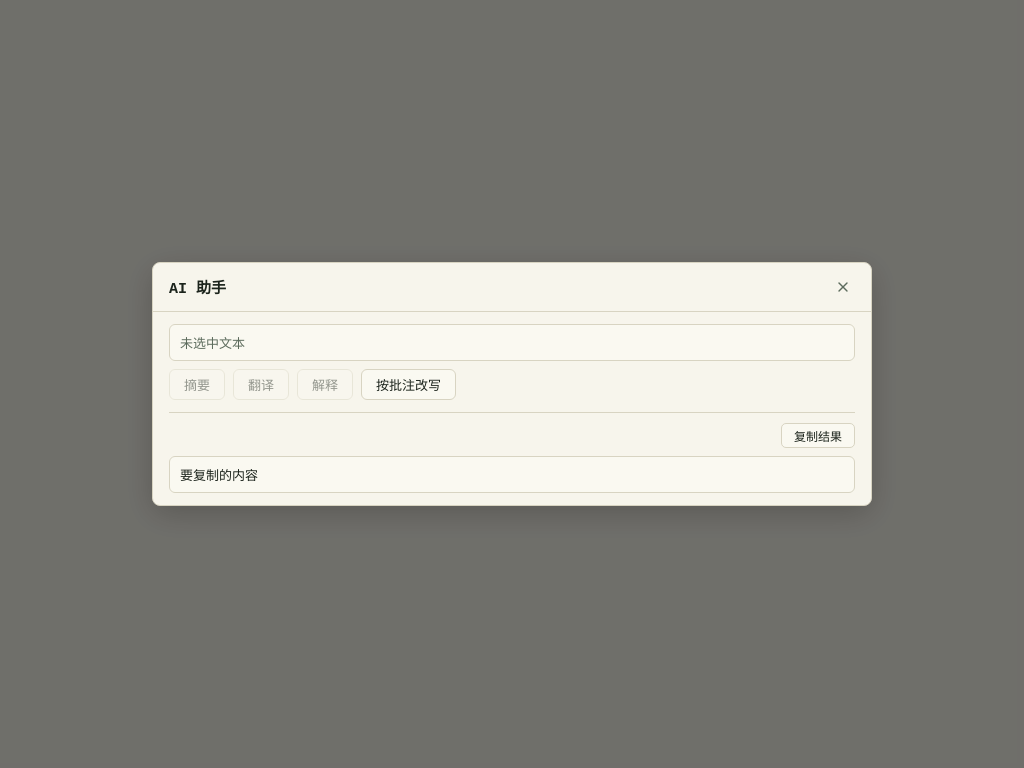
Test case: AiPanel - 结果 › 复制结果成功:按钮文案切换为已复制
The image size is (1024, 768).
Click the button "复制结果" at (818, 436), box [781,423,855,448]
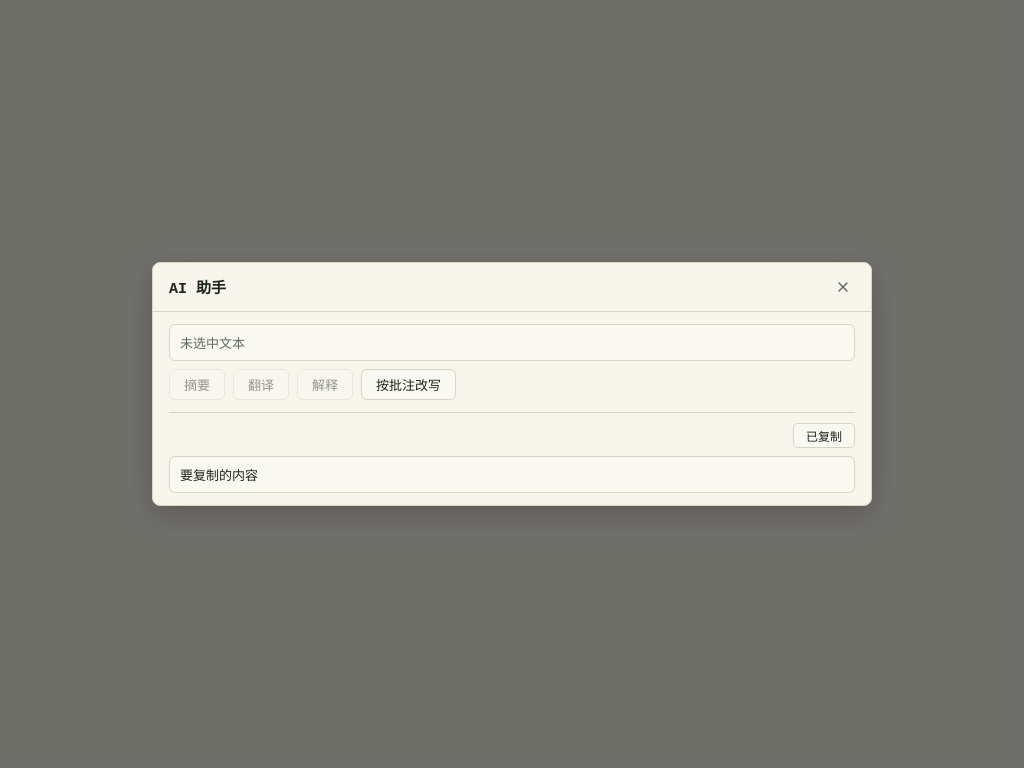
Expected: the button "已复制" is shown, [793,423,855,448]
